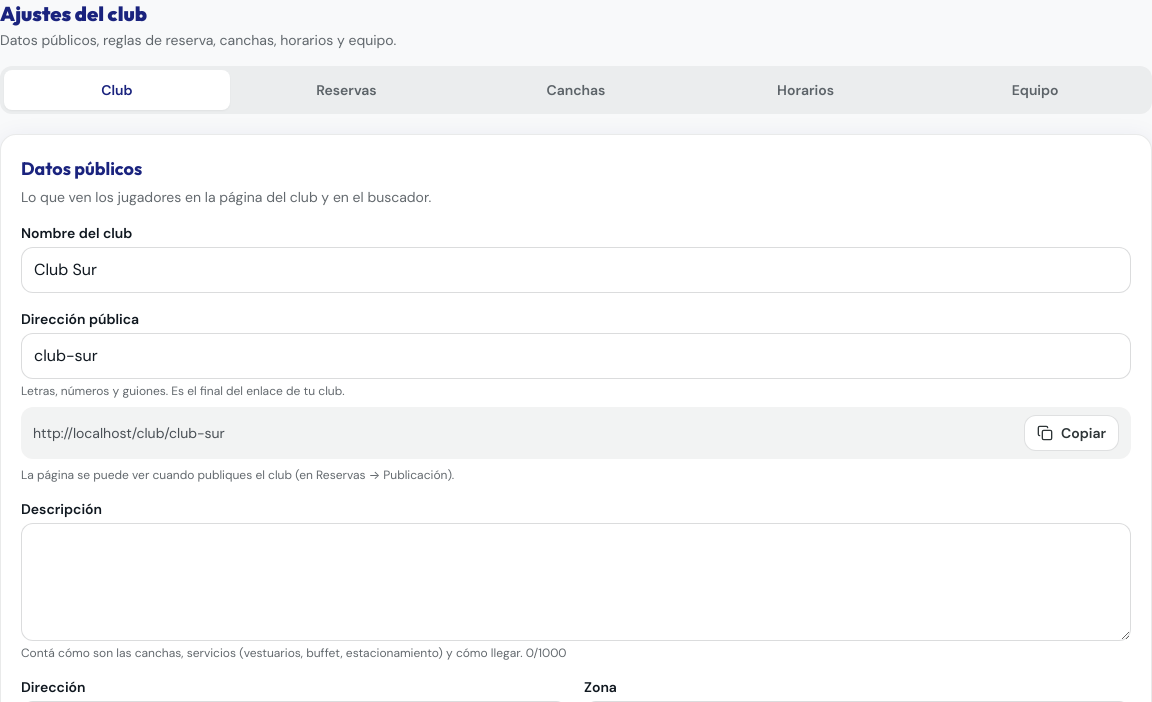
Test case: Ajustes del club › marca en el campo el error del servidor
This screenshot has width=1152, height=702.
Replace the text in the field labelled "Dirección pública" with "Club Norte": (576, 356) [21,333,1131,379]
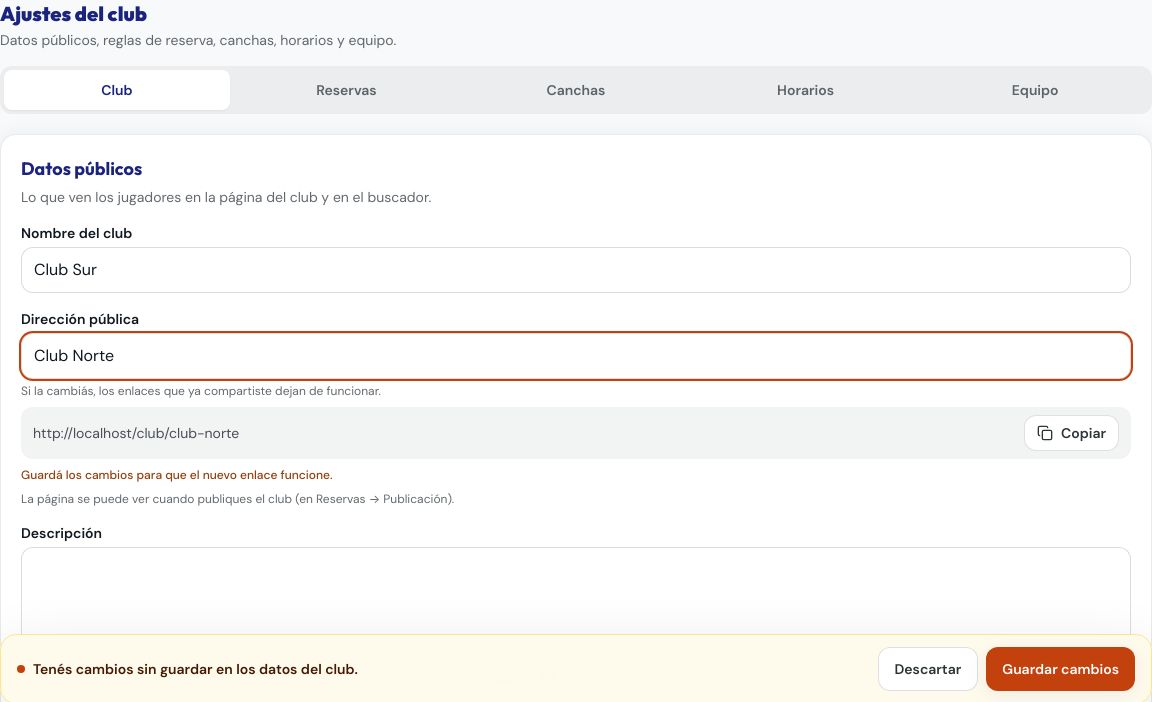
Expected: the text "http://localhost/club/club-norte" is shown, [33,423,239,443]
Click the button "Guardar cambios": (1061, 669) [986,647,1135,691]
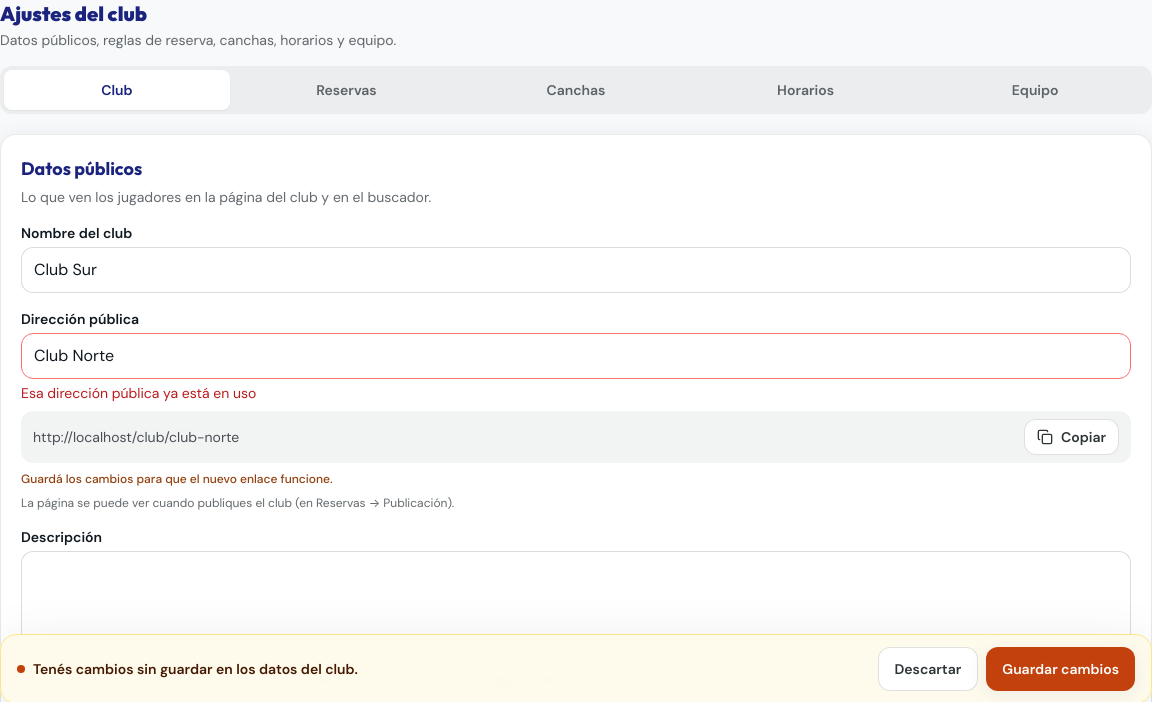
Expected: the text "Esa dirección pública ya está en uso" is shown, [21,384,256,402]
